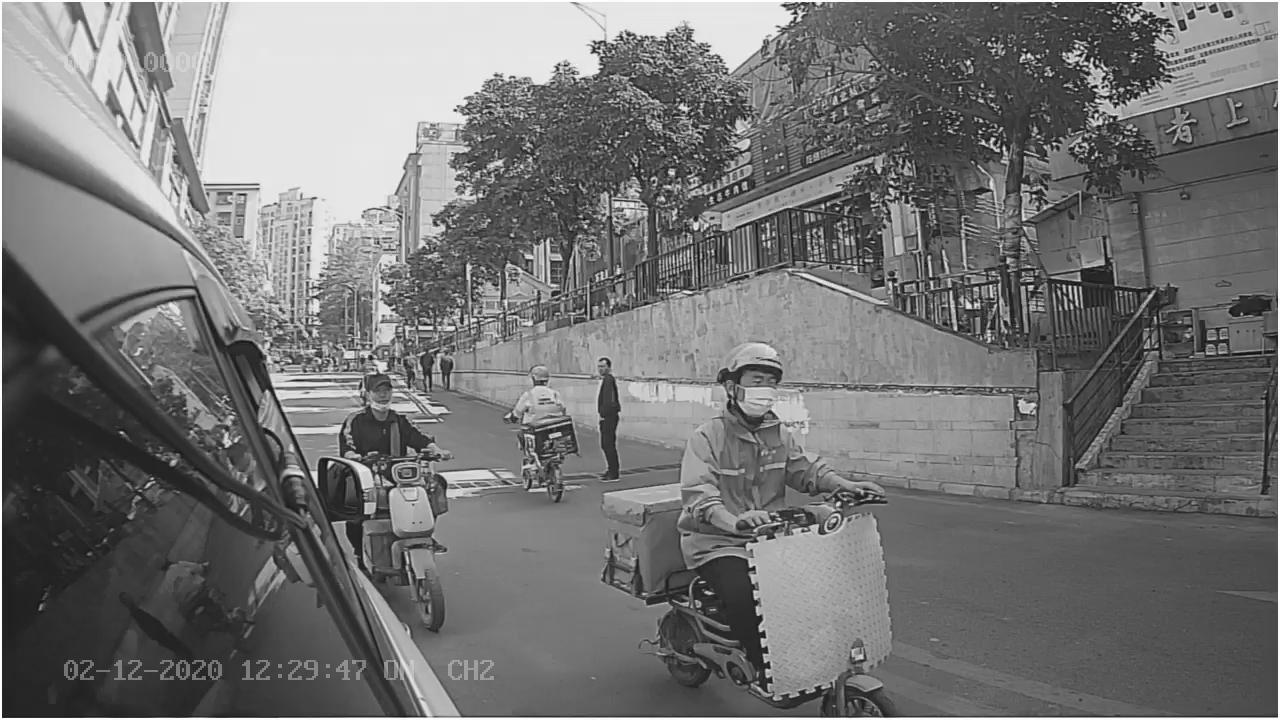person: (678, 336, 848, 529)
